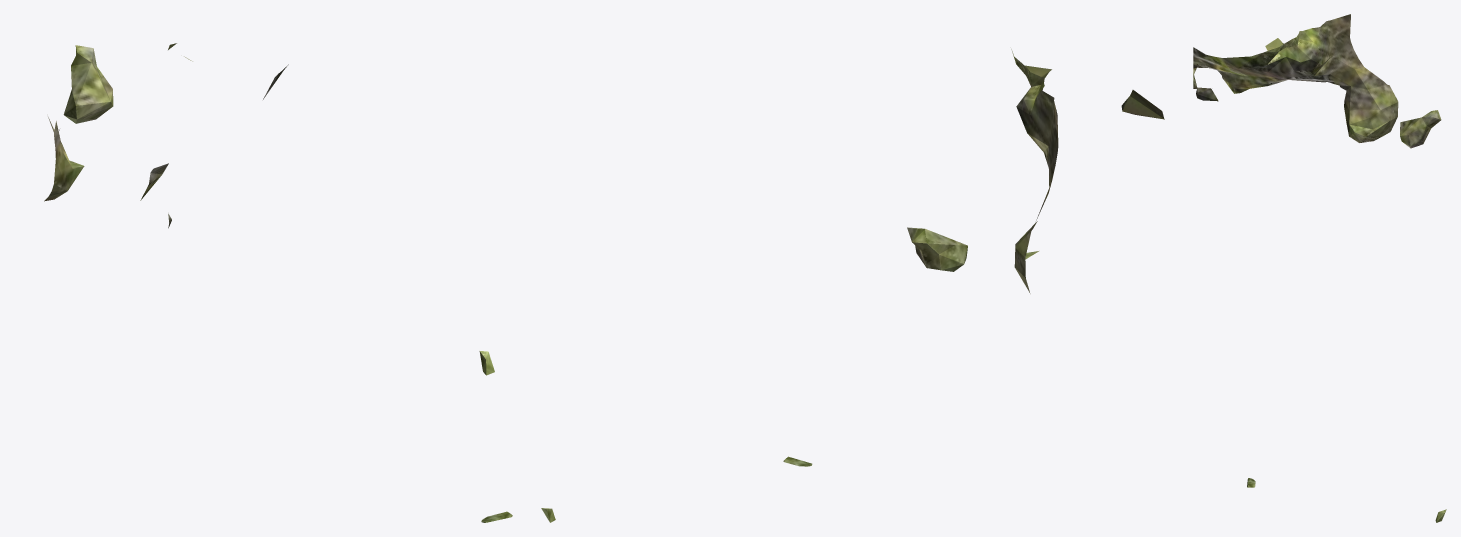
3 views of the same model, side by side, from view 1: azimuth 30°, elevation 25°; view 2: azimuth 150°, elevation 25°; view 3: azimuth 270°, elevation 25° (orthographic). The views are drawn at different scales.
Size of the model in its own units: 2.93 by 2.95 by 1.93.
Materials: 1 (1 with a texture image).
